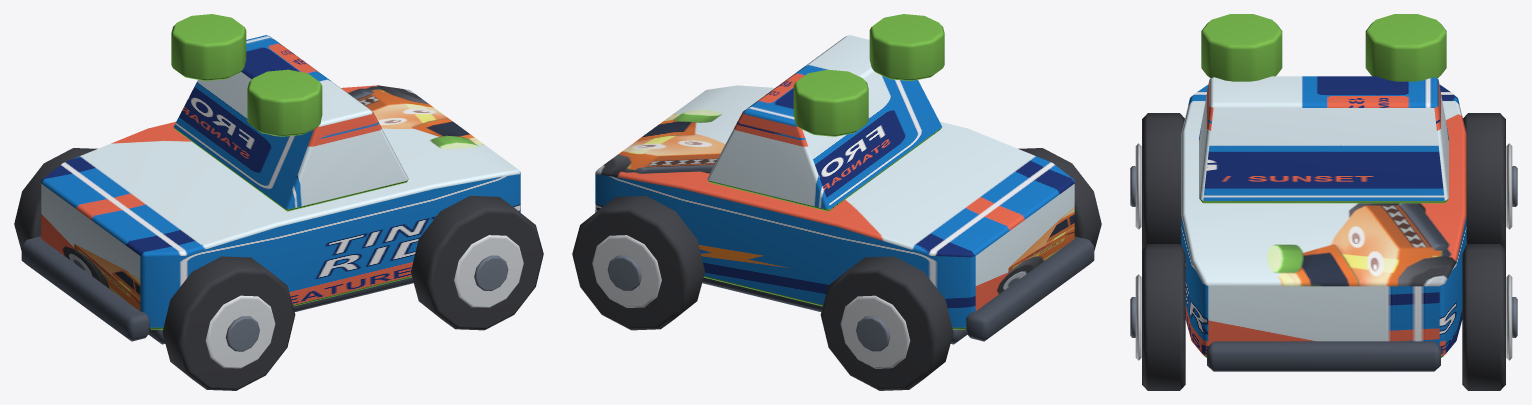
The picture shows the model from 3 angles, left to right: view 1: azimuth 30°, elevation 25°; view 2: azimuth 150°, elevation 25°; view 3: azimuth 270°, elevation 25°; orthographic projection. The views are drawn at different scales.
Parts seen in each view (by area): view 1: CR-04_connected_shell, CR-04_cabin, Tire.002, Tire, front bumper, eye housing.001, eye housing, Rim, Rim.002, Tire.001, underbody, Hub.002 (+1 smaller); view 2: CR-04_connected_shell, CR-04_cabin, Tire.003, Tire.001, front bumper, eye housing, eye housing.001, Rim.001, Rim.003, Tire, underbody, Hub.003 (+1 smaller); view 3: CR-04_connected_shell, CR-04_cabin, rear bumper, Tire.002, Tire.003, Tire, Tire.001, eye housing, eye housing.001, Rim, Rim.001, Rim.002 (+1 smaller).
Boxes of the visible parts, x1,y1,x2,y2 form: CR-04_connected_shell: (41,85,520,329); CR-04_cabin: (174,35,408,211); Tire.002: (411,196,543,330); Tire: (162,256,295,390); front bumper: (21,236,150,341); eye housing.001: (171,14,246,80); eye housing: (247,69,322,136); Rim: (205,295,275,368); Rim.002: (454,235,523,307); Tire.001: (14,148,97,250); underbody: (148,277,413,344); Hub.002: (474,255,508,290); CR-04_connected_shell: (595,85,1074,329); CR-04_cabin: (707,35,941,211); Tire.003: (572,196,704,330); Tire.001: (820,256,953,390); front bumper: (965,236,1094,341); eye housing: (869,14,944,80); eye housing.001: (793,69,868,136); Rim.001: (840,295,910,368); Rim.003: (592,235,661,307); Tire: (1018,148,1101,250); underbody: (702,277,967,344); Hub.003: (607,255,641,290); CR-04_connected_shell: (1181,85,1466,357); CR-04_cabin: (1199,76,1448,203); rear bumper: (1207,341,1440,371); Tire.002: (1142,244,1185,390); Tire.003: (1462,244,1505,390); Tire: (1142,113,1184,249); Tire.001: (1463,113,1505,249); eye housing: (1201,14,1282,81); eye housing.001: (1365,14,1446,81); Rim: (1135,143,1141,229); Rim.001: (1506,143,1512,229); Rim.002: (1135,274,1141,360).
Bounding box in the file's own units: 303 × 180 × 231.
